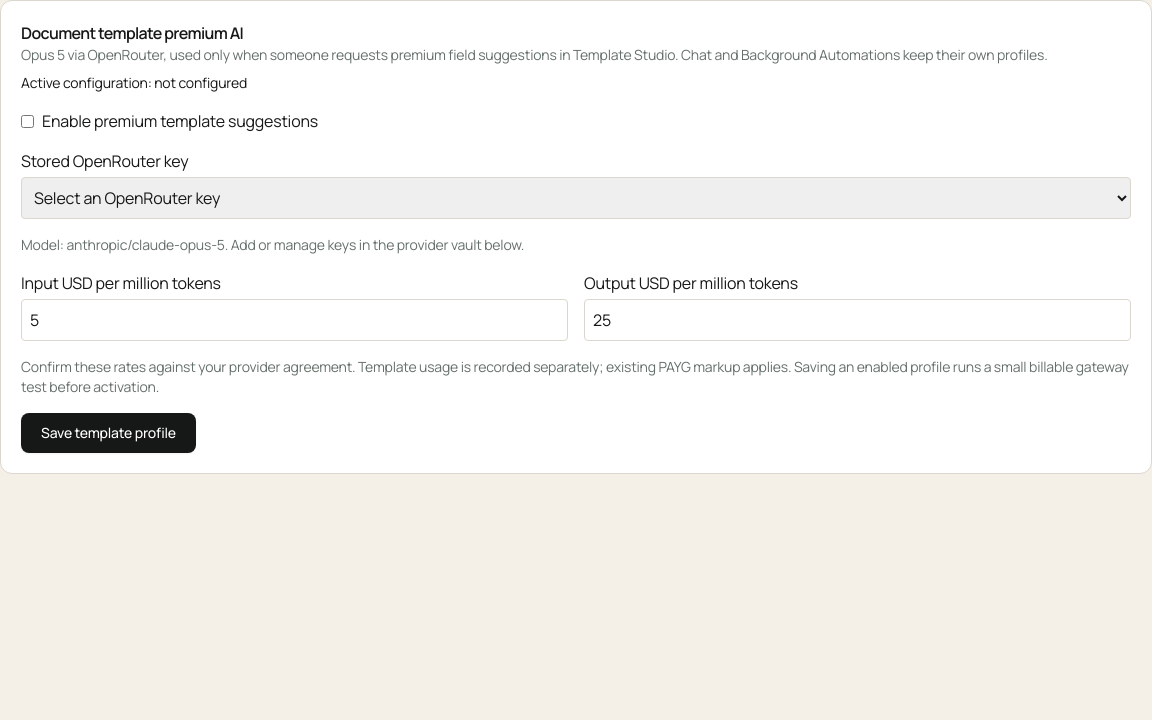
loads existing vault choices and saves only the template profile with explicit rates
Expected: the dropdown labelled "Stored OpenRouter key" is shown, left=21, top=177, right=1131, bottom=219
Step 1. Click the checkbox → (28, 121), box left=21, top=114, right=34, bottom=128
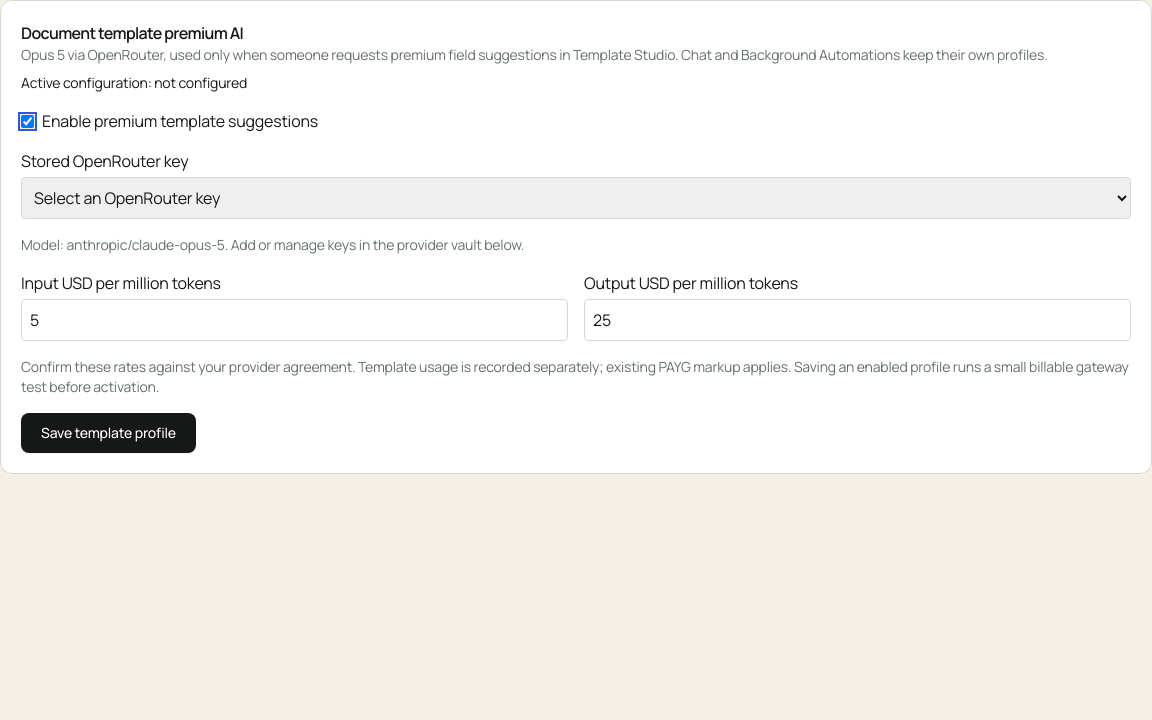
Expected: the button "Save template profile" is disabled, left=21, top=413, right=196, bottom=453
Step 2. Select "Existing OpenRouter key" in the dropdown labelled "Stored OpenRouter key" → (576, 198), box left=21, top=177, right=1131, bottom=219
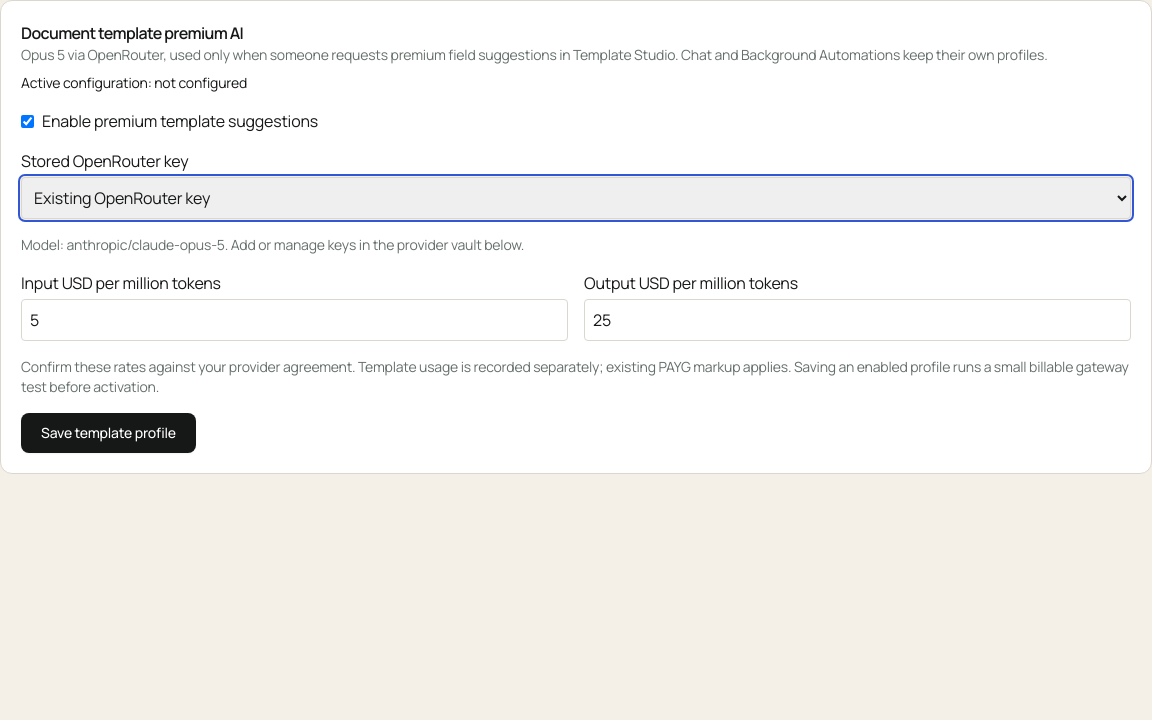
Step 3. Replace the text in the number field labelled "Input USD per million tokens" with "6" → (294, 320), box left=21, top=299, right=568, bottom=341
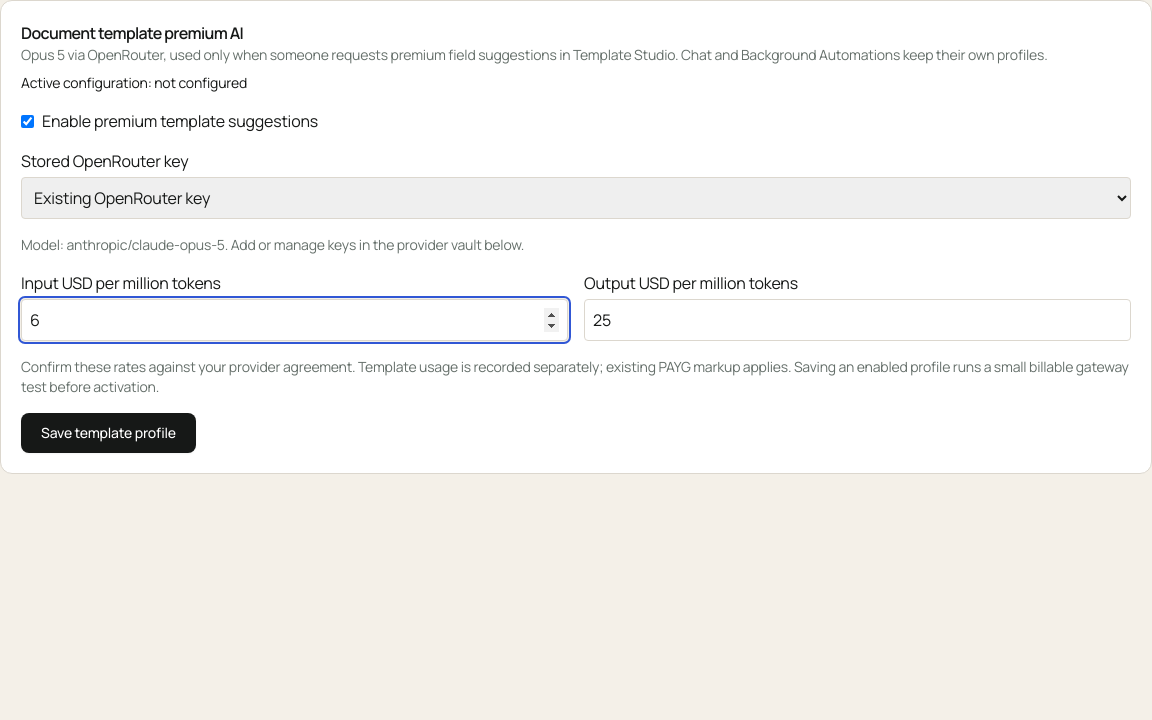
Step 4. Click the button "Save template profile" → (108, 433), box left=21, top=413, right=196, bottom=453
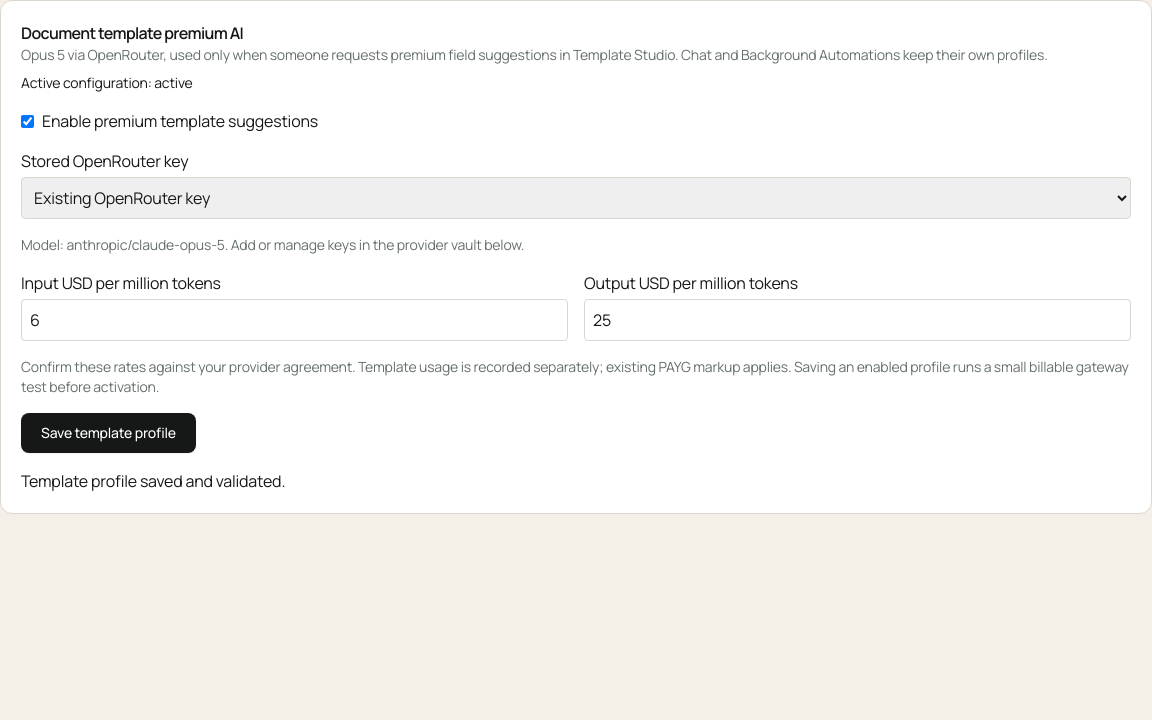
Now the text "Template profile saved and validated." is shown, box left=21, top=470, right=285, bottom=492
Step 5. Click the checkbox → (28, 121), box left=21, top=114, right=34, bottom=128
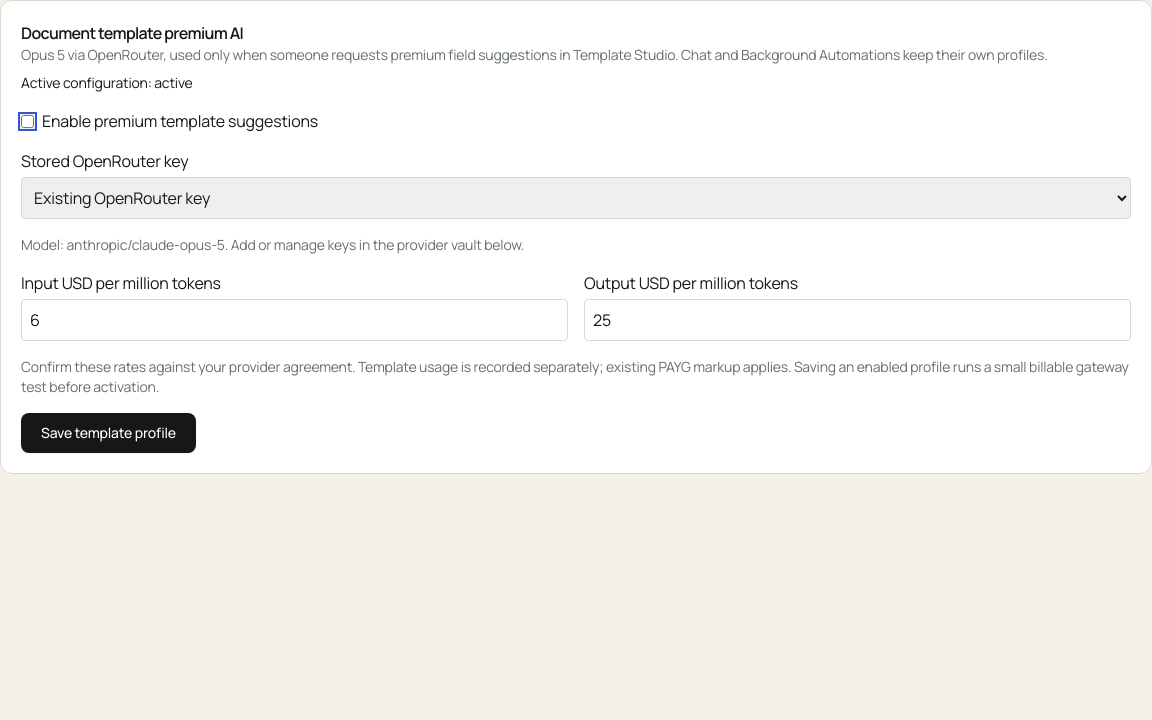
Step 6. Click the button "Save template profile" → (108, 433), box left=21, top=413, right=196, bottom=453
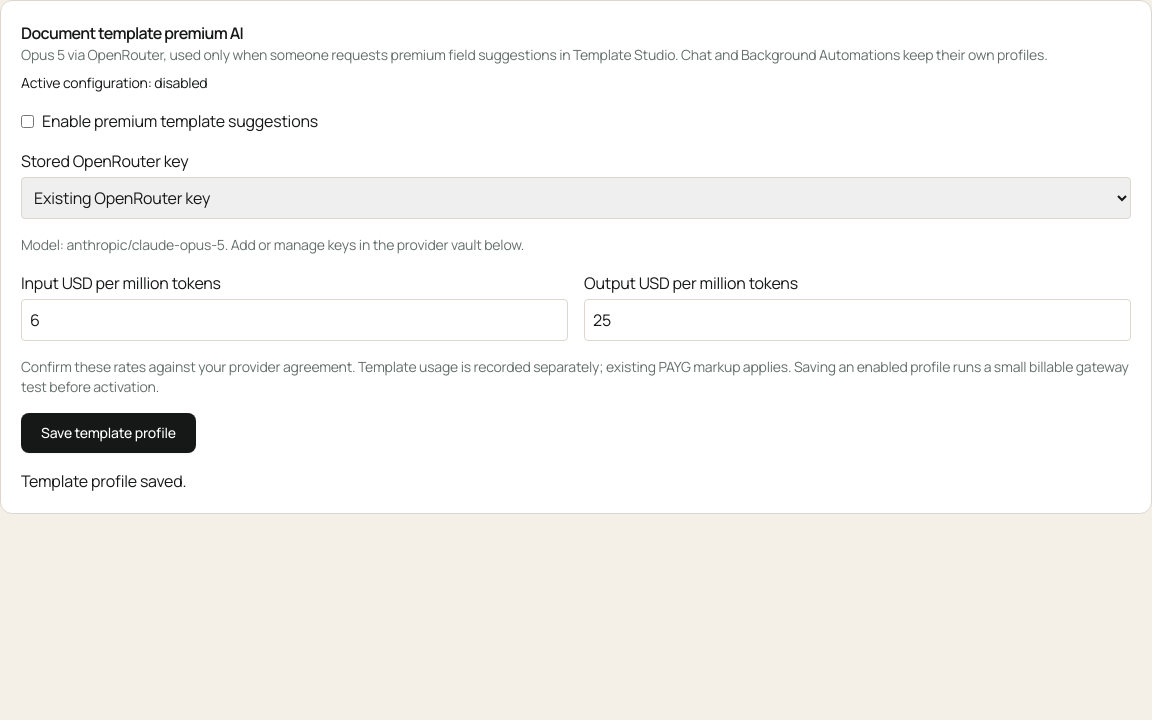
Now the text "Template profile saved." is shown, box left=21, top=470, right=186, bottom=492
